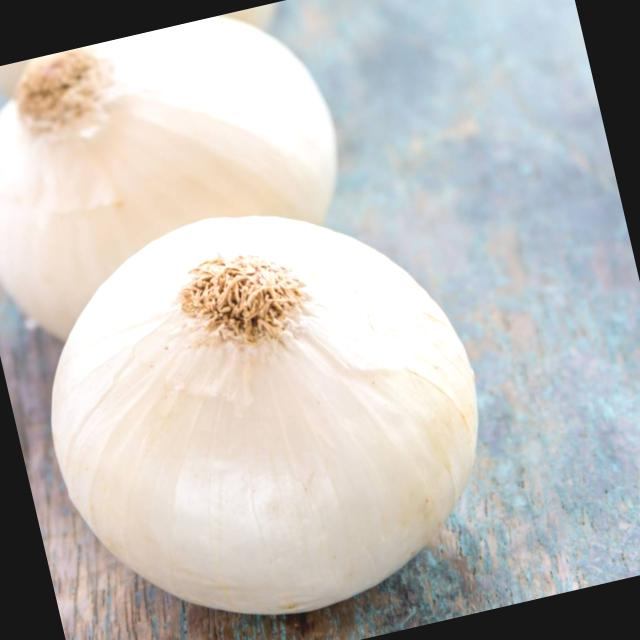onion: (0, 155, 534, 640), (0, 0, 370, 348)
